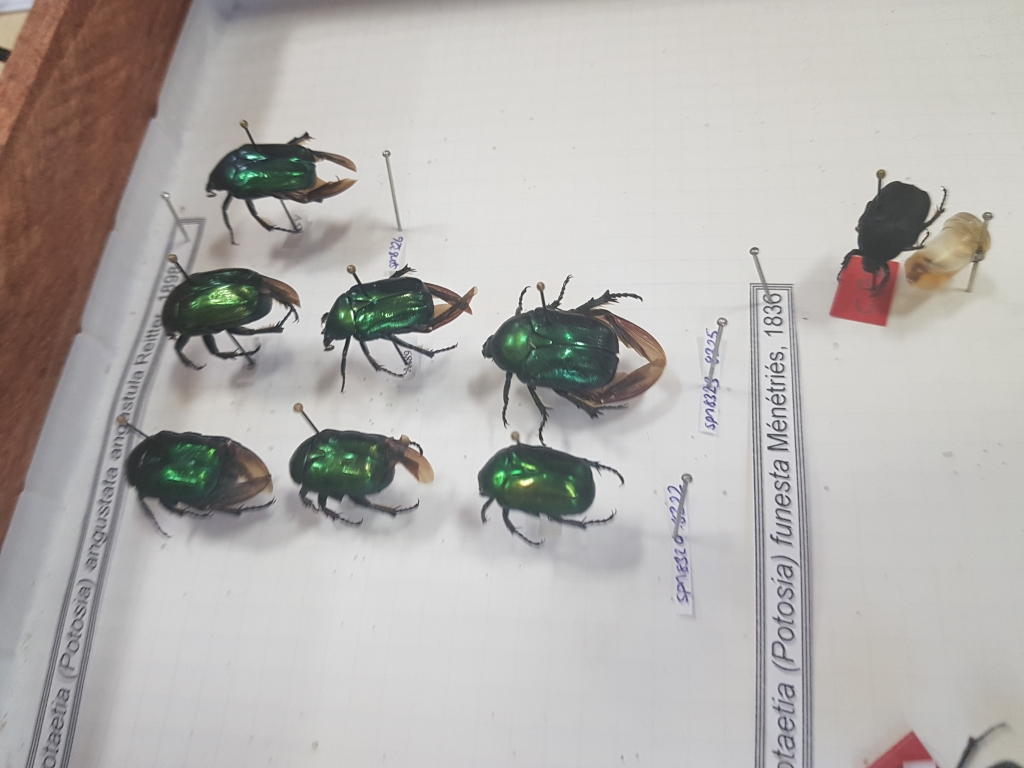Protaetia_angustata_angustata: (481, 271, 678, 434), (305, 259, 478, 394), (461, 428, 634, 546)
